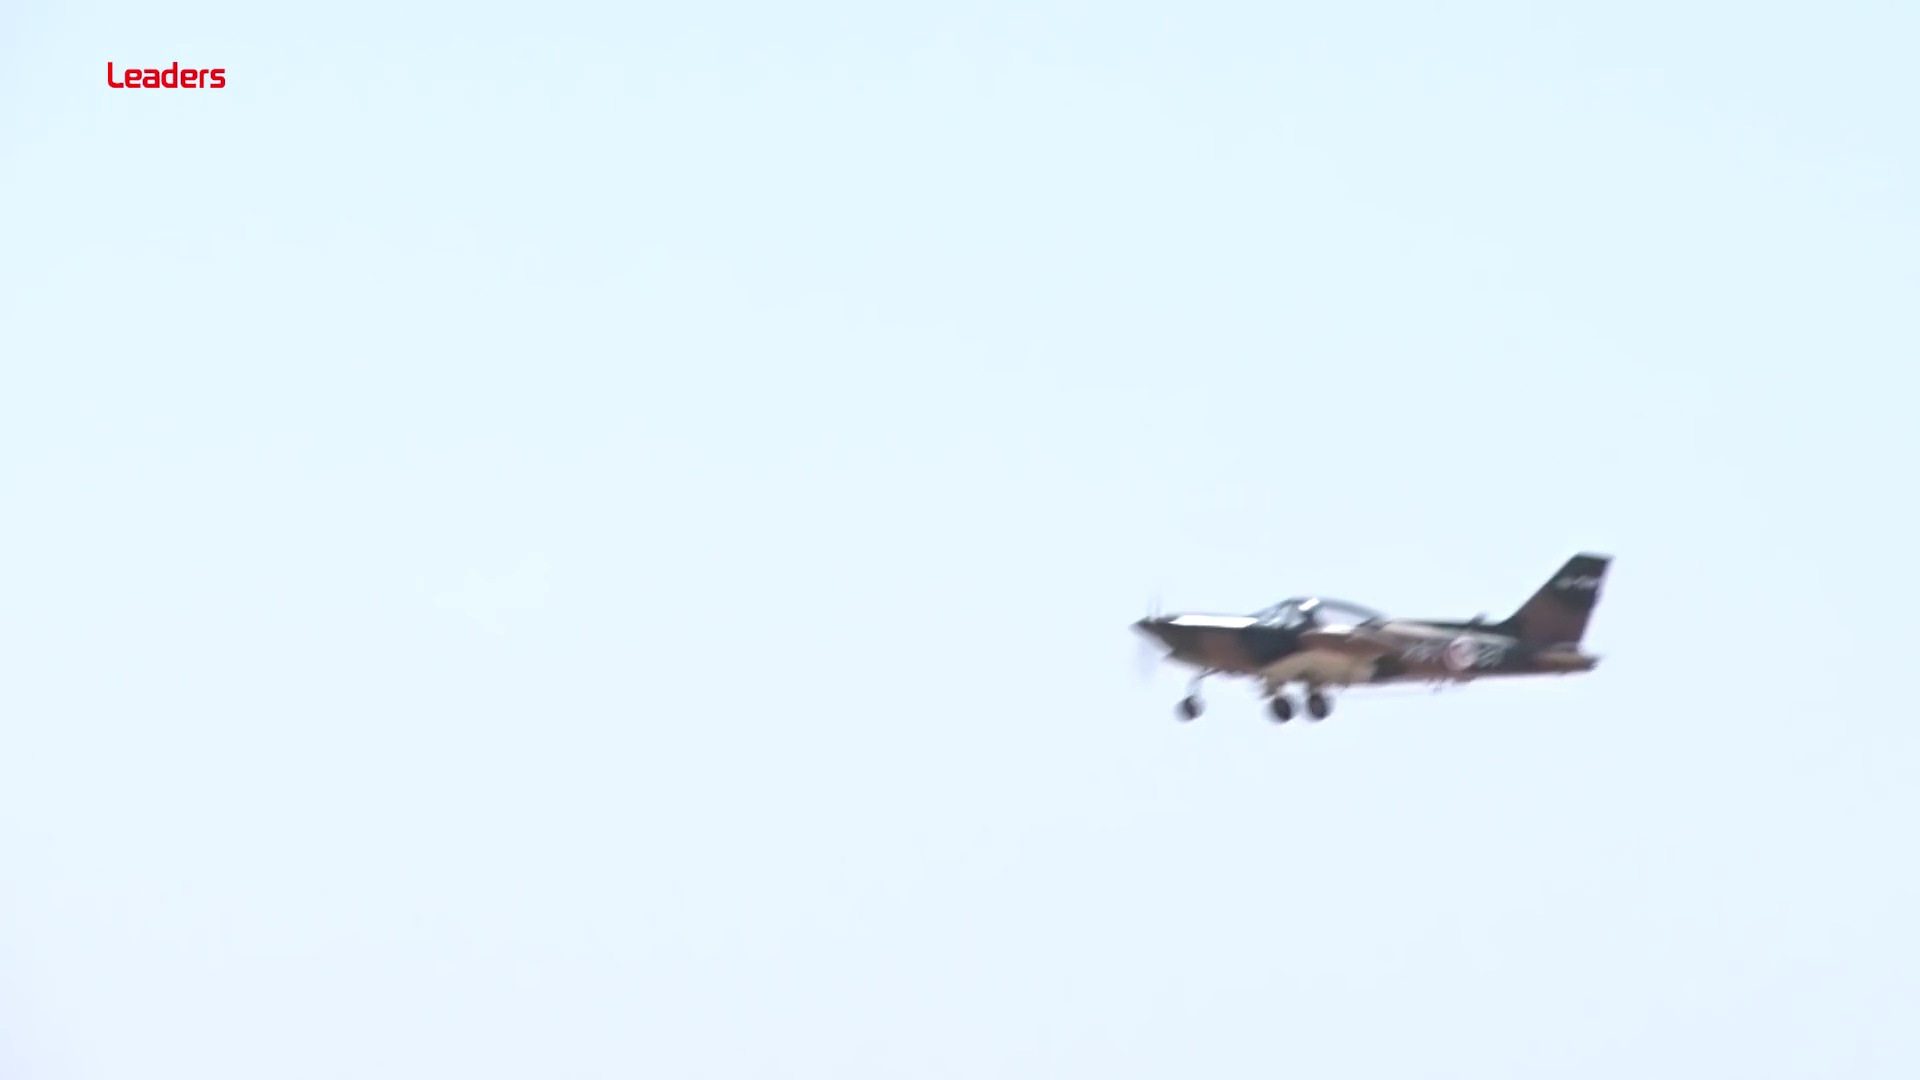Airplane: (1141, 553, 1621, 713)
